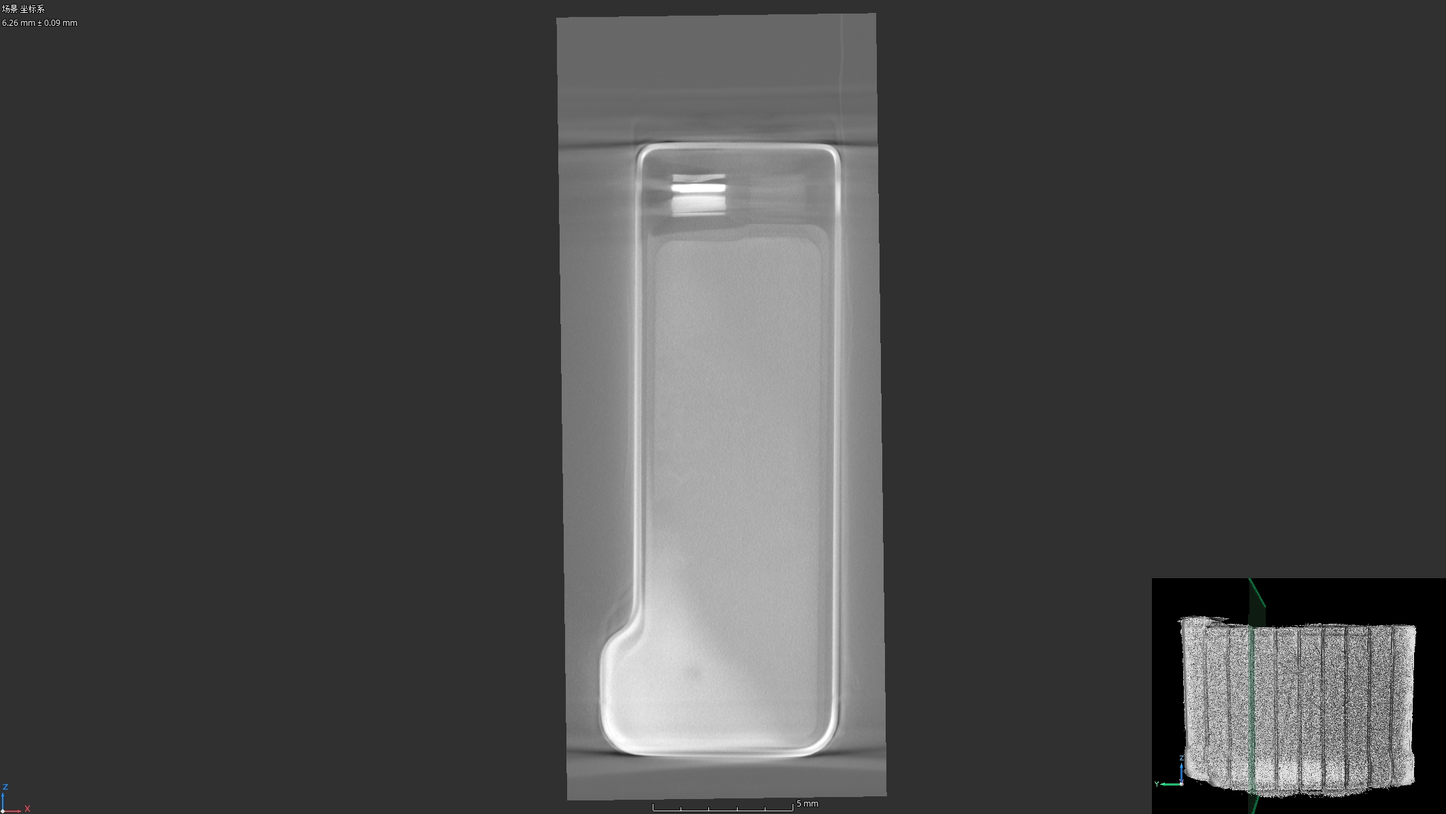dark: (680, 663, 705, 685)
